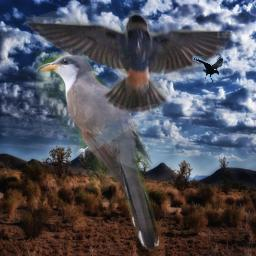Crow: (192, 56, 223, 82)
Cuckoo: (36, 51, 164, 253)
Swallow: (20, 10, 236, 114)
